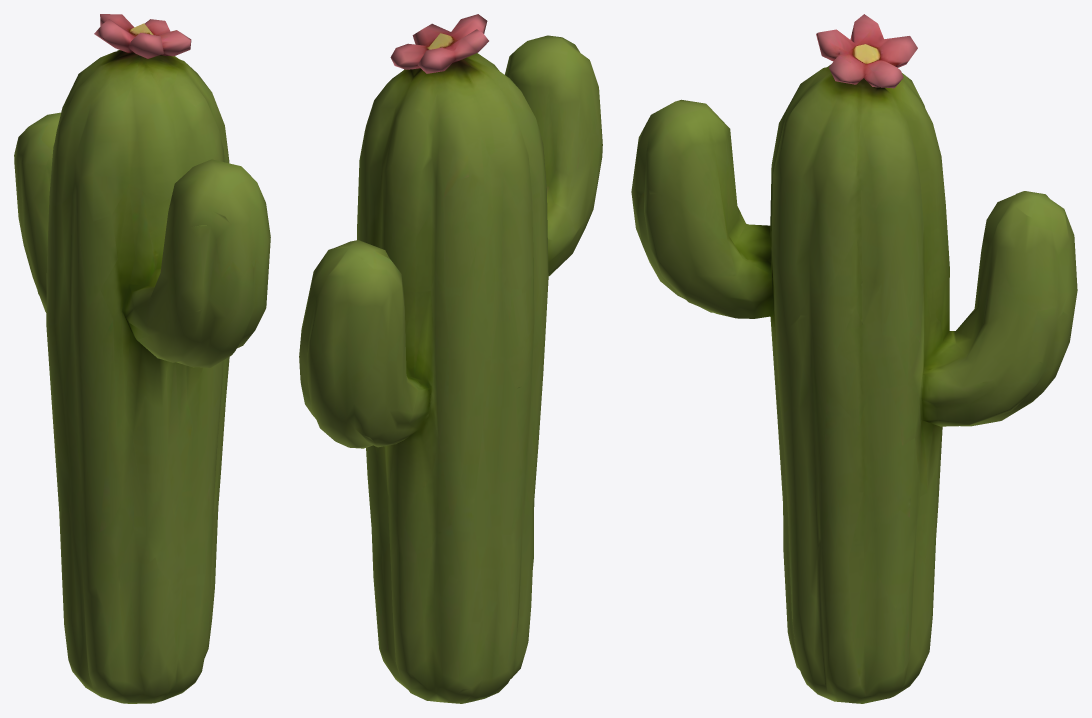
File: cactus.glb
3 renders of one model, left to right at view 1: azimuth 30°, elevation 25°; view 2: azimuth 150°, elevation 25°; view 3: azimuth 270°, elevation 25°, orthographic.
Parts seen in each view (by area): view 1: tripo_node_848f6bff-0b50-4a89-98a5-1be8c21f33b6; view 2: tripo_node_848f6bff-0b50-4a89-98a5-1be8c21f33b6; view 3: tripo_node_848f6bff-0b50-4a89-98a5-1be8c21f33b6.
Part boxes in pixels (x1=…): tripo_node_848f6bff-0b50-4a89-98a5-1be8c21f33b6: x1=14, y1=14, x2=270, y2=703; tripo_node_848f6bff-0b50-4a89-98a5-1be8c21f33b6: x1=299, y1=14, x2=602, y2=703; tripo_node_848f6bff-0b50-4a89-98a5-1be8c21f33b6: x1=631, y1=14, x2=1077, y2=703.
Size of the model in its own units: 0.2558 by 1 by 0.6152.
1 material, 1 textured.
